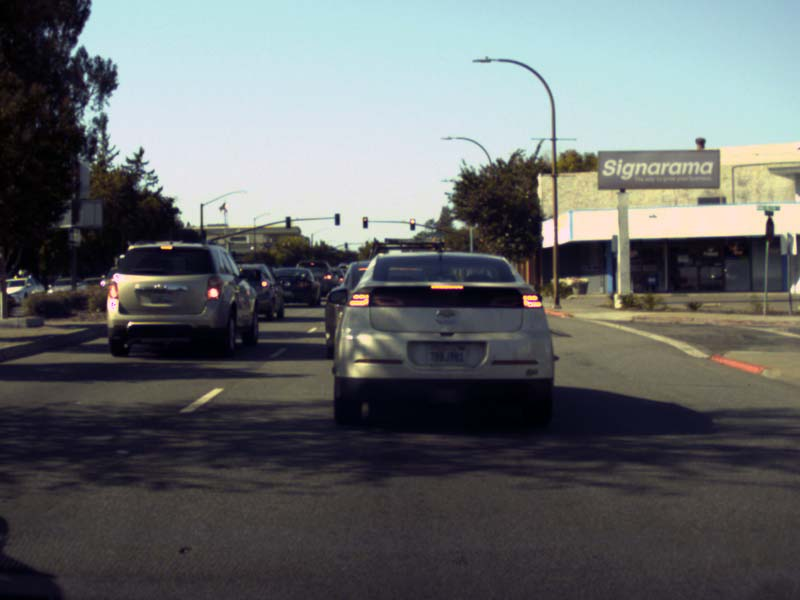Red: (409, 219, 415, 231), (362, 216, 367, 228)
